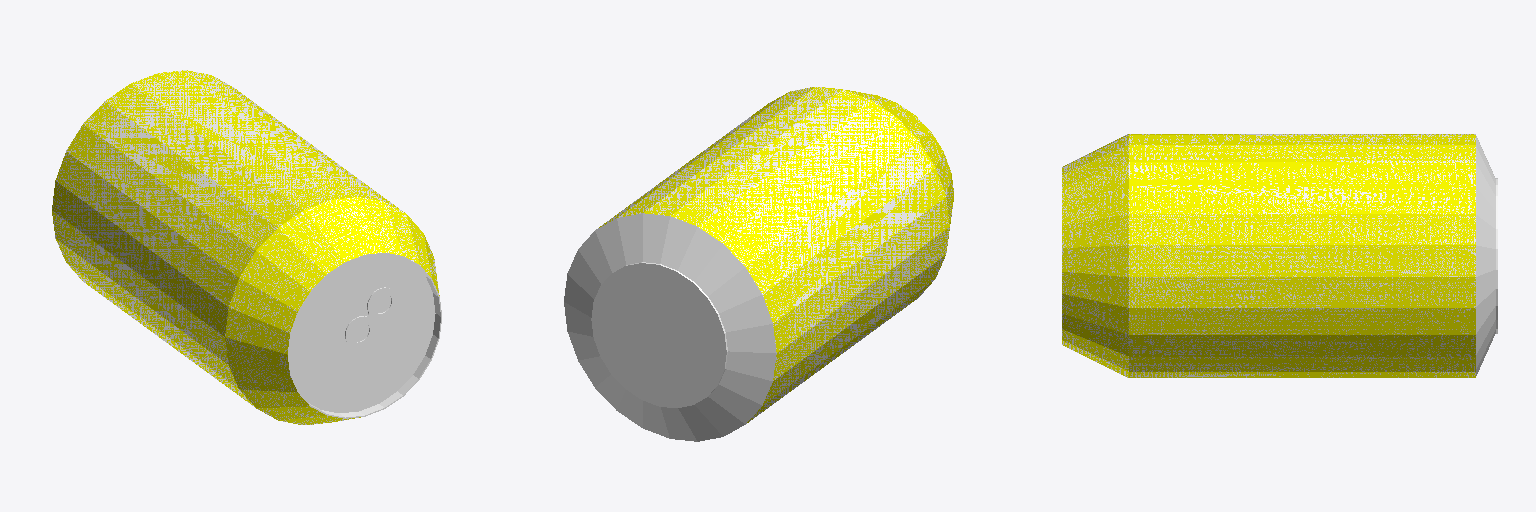
Rendered from model_align.obj.
The picture shows the model from 3 angles: view 1: azimuth 30°, elevation 25°; view 2: azimuth 150°, elevation 25°; view 3: azimuth 270°, elevation 25°; orthographic projection.
Visible parts, largest first — view 1: mesh1_mesh1-geometry; view 2: mesh1_mesh1-geometry; view 3: mesh1_mesh1-geometry.
Boxes of the visible parts, <box> form: mesh1_mesh1-geometry: <box>52,70,441,424</box>; mesh1_mesh1-geometry: <box>564,87,953,441</box>; mesh1_mesh1-geometry: <box>1062,134,1497,377</box>.
Bounding box in the file's own units: 0.0804 × 0.0804 × 0.1426.